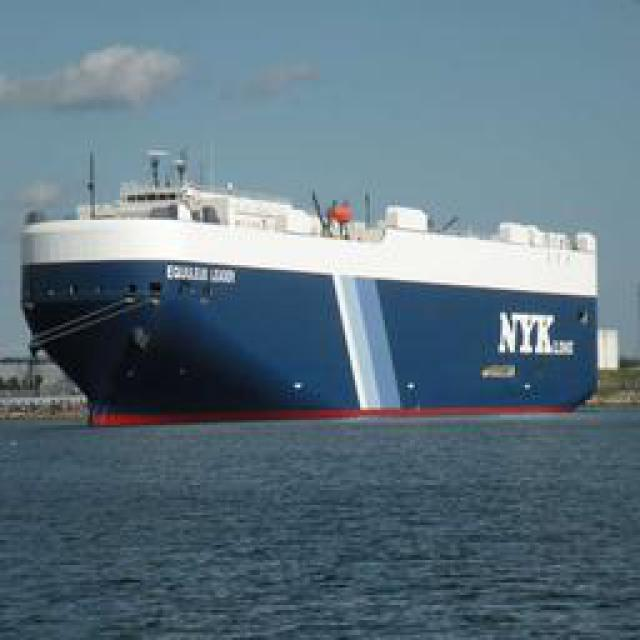Ship: (21, 187, 606, 417)
